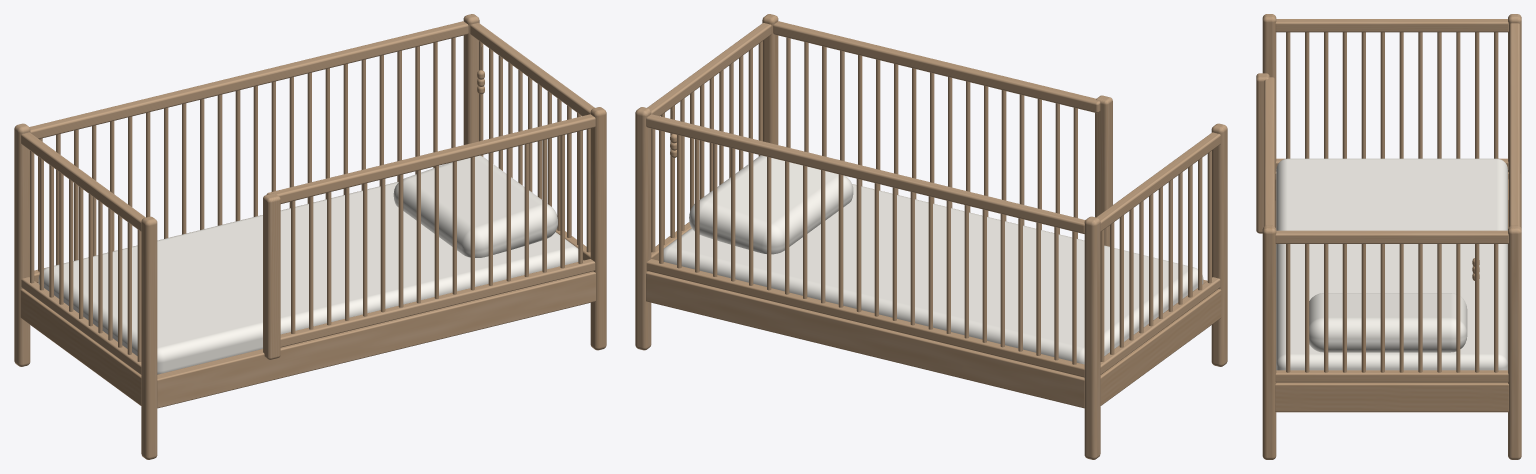
File: oak_kid_bed.glb
The picture shows the model from 3 angles, left to right: view 1: azimuth 30°, elevation 25°; view 2: azimuth 150°, elevation 25°; view 3: azimuth 270°, elevation 25°; orthographic projection. The views are drawn at different scales.
Visible parts, largest first — view 1: Ivory mattress, Long lower apron, Corner post (×4), Long upper guard rail (×2), Ivory pillow, End upper guard rail (×2), Long lower guard rail, End lower apron, Front gate stile, End lower guard rail, Long guard spindle 0.49 13, Long guard spindle 0.49 12 (+34 smaller); view 2: Ivory mattress, Long lower apron, Corner post (×4), Long upper guard rail (×2), Ivory pillow, Long lower guard rail, End upper guard rail (×2), End lower apron, Front gate stile, End lower guard rail, Long guard spindle -0.49 13, Long guard spindle -0.49 12 (+37 smaller); view 3: Ivory mattress, Corner post (×4), Ivory pillow, End lower apron, End upper guard rail (×2), Long upper guard rail (×2), End lower guard rail, Front gate stile, End spindle 1 00, End spindle 1 01, End spindle 1 02, End spindle 1 05 (+20 smaller).
Part boxes in pixels (bbox=[...]): Ivory mattress: bbox=[38, 182, 578, 374]; Long lower apron: bbox=[157, 271, 595, 408]; Corner post (×4): bbox=[14, 14, 606, 459]; Long upper guard rail (×2): bbox=[29, 21, 595, 203]; Ivory pillow: bbox=[393, 155, 557, 257]; End upper guard rail (×2): bbox=[21, 23, 594, 231]; Long lower guard rail: bbox=[280, 259, 595, 347]; End lower apron: bbox=[20, 289, 141, 405]; Front gate stile: bbox=[263, 193, 280, 359]; End lower guard rail: bbox=[21, 277, 141, 374]; Long guard spindle 0.49 13: bbox=[398, 174, 403, 307]; Long guard spindle 0.49 12: bbox=[380, 179, 385, 312]; Ivory mattress: bbox=[663, 184, 1203, 364]; Long lower apron: bbox=[646, 271, 1084, 408]; Corner post (×4): bbox=[635, 14, 1227, 459]; Long upper guard rail (×2): bbox=[646, 21, 1100, 233]; Ivory pillow: bbox=[689, 155, 853, 254]; Long lower guard rail: bbox=[646, 259, 1084, 377]; End upper guard rail (×2): bbox=[647, 23, 1220, 231]; End lower apron: bbox=[1100, 289, 1221, 405]; Front gate stile: bbox=[1095, 95, 1112, 246]; End lower guard rail: bbox=[1100, 277, 1220, 374]; Long guard spindle -0.49 13: bbox=[838, 174, 843, 307]; Long guard spindle -0.49 12: bbox=[856, 179, 861, 312]; Ivory mattress: bbox=[1276, 158, 1507, 370]; Corner post (×4): bbox=[1262, 14, 1521, 459]; Ivory pillow: bbox=[1309, 293, 1467, 352]; End lower apron: bbox=[1275, 382, 1508, 412]; End upper guard rail (×2): bbox=[1275, 19, 1508, 243]; Long upper guard rail (×2): bbox=[1264, 23, 1519, 226]; End lower guard rail: bbox=[1275, 370, 1508, 382]; Front gate stile: bbox=[1256, 73, 1269, 233]; End spindle 1 00: bbox=[1494, 244, 1498, 372]; End spindle 1 01: bbox=[1475, 244, 1479, 372]; End spindle 1 02: bbox=[1456, 244, 1460, 372]; End spindle 1 05: bbox=[1399, 244, 1403, 372].
Size of the model in its own units: 2.06 by 1.02 by 1.06.
